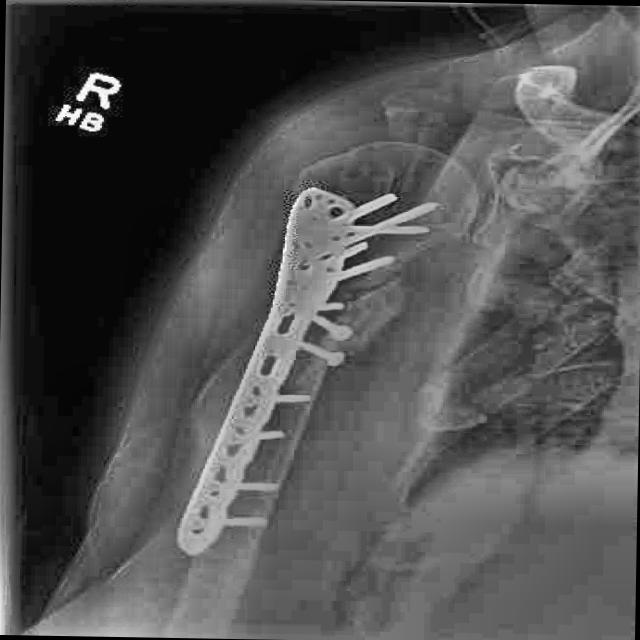shoulder fracture: (316, 281, 419, 350)
